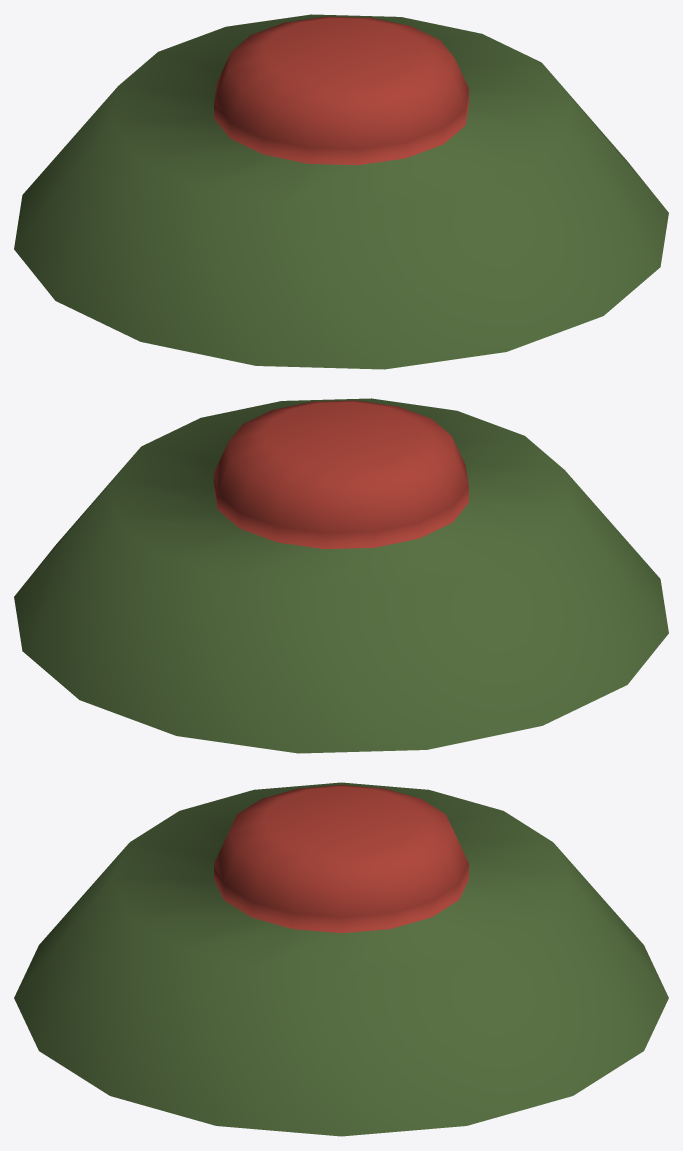
File: landmine.fbx
3 views of the same model, one above another, from view 1: azimuth 30°, elevation 25°; view 2: azimuth 150°, elevation 25°; view 3: azimuth 270°, elevation 25° (orthographic).
Visible parts, largest first — view 1: landmine; view 2: landmine; view 3: landmine.
Part boxes in pixels (x1,y1,x2,y2): landmine: (14, 14, 668, 369); landmine: (14, 398, 668, 753); landmine: (14, 782, 668, 1136).
Bounding box in the file's own units: 200 × 60 × 200.
